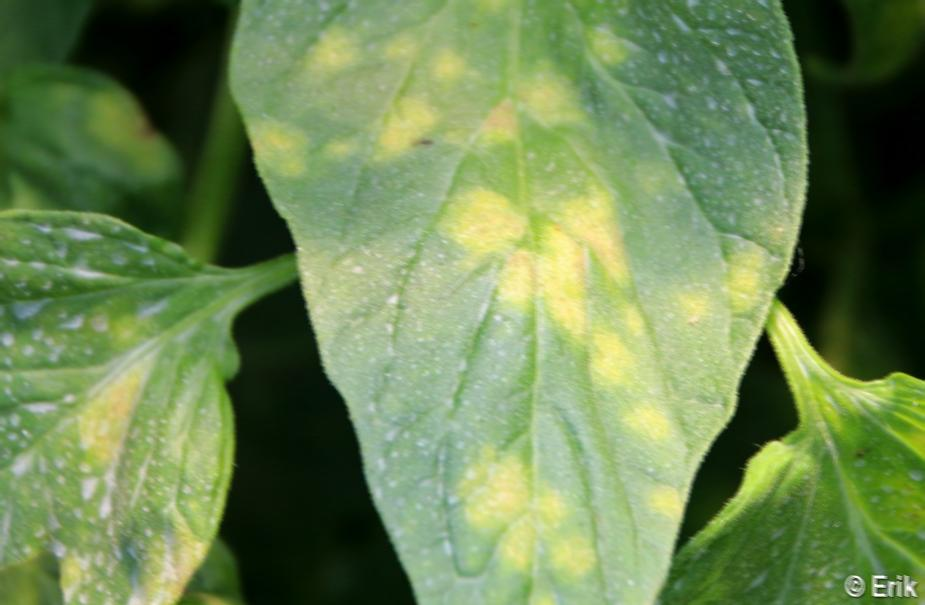Tomato mold leaf: (223, 0, 793, 605)
